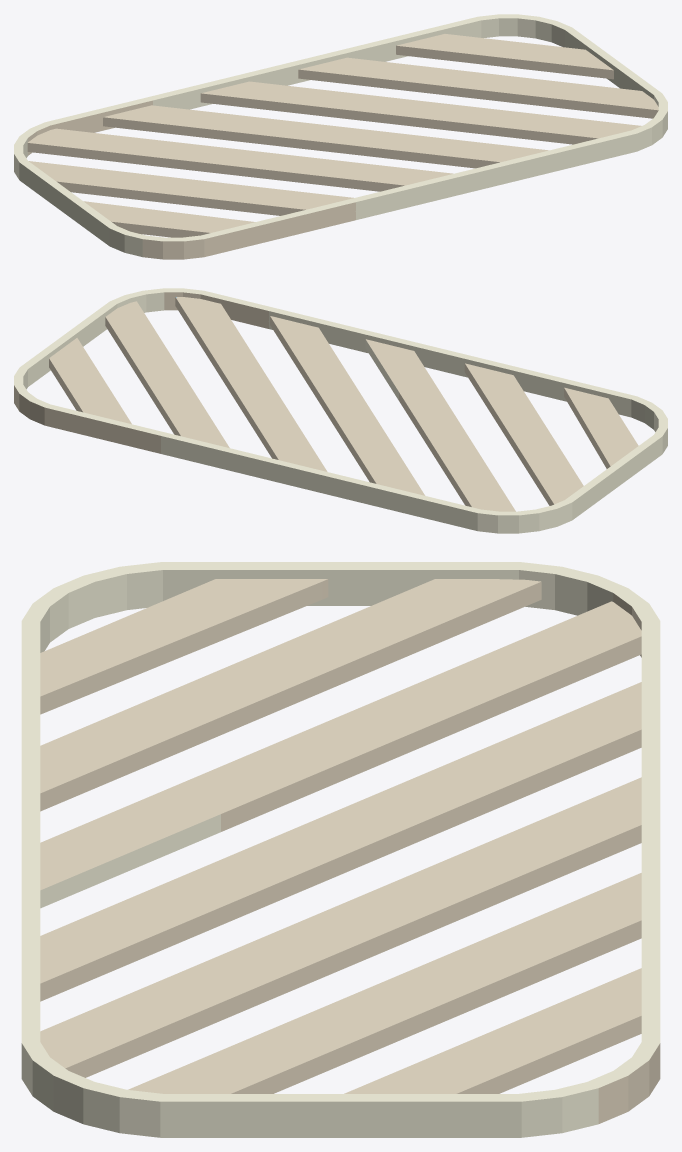
File: furnitureSelector2x1.gltf
The picture shows the model from 3 angles, top to bottom: view 1: azimuth 30°, elevation 25°; view 2: azimuth 150°, elevation 25°; view 3: azimuth 270°, elevation 25°; orthographic projection. The views are drawn at different scales.
Parts seen in each view (by area): view 1: tube_selection; view 2: tube_selection; view 3: tube_selection.
Part boxes in pixels (left/top/right/bottom): tube_selection: left=14, top=14, right=667, bottom=259; tube_selection: left=14, top=288, right=667, bottom=533; tube_selection: left=21, top=562, right=660, bottom=1137.
Size of the model in its own units: 2 by 0.0625 by 1.
Materials: 1 (1 with a texture image).
